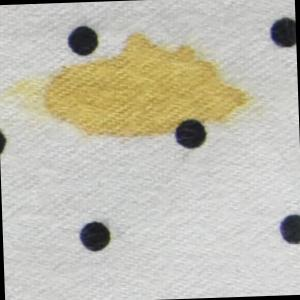Oil Stain: (18, 28, 258, 142)
